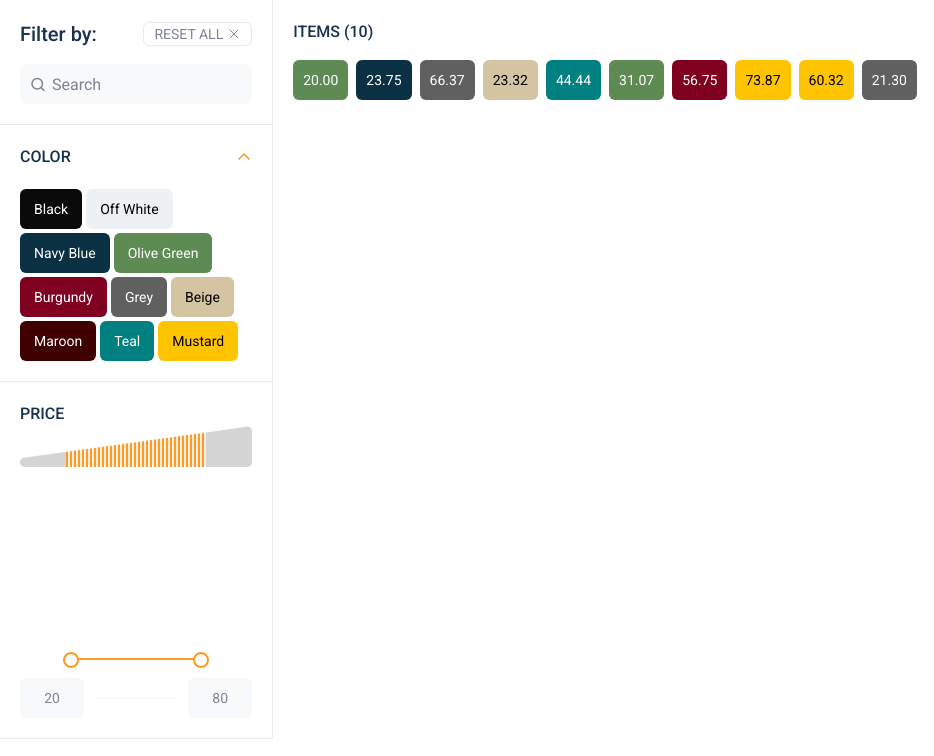
<FilterPage /> › Should filter items by search filter
The width and height of the screenshot is (934, 756).
Type "23" into the field with test id "search-input" at (136, 84), box [20, 64, 252, 104]
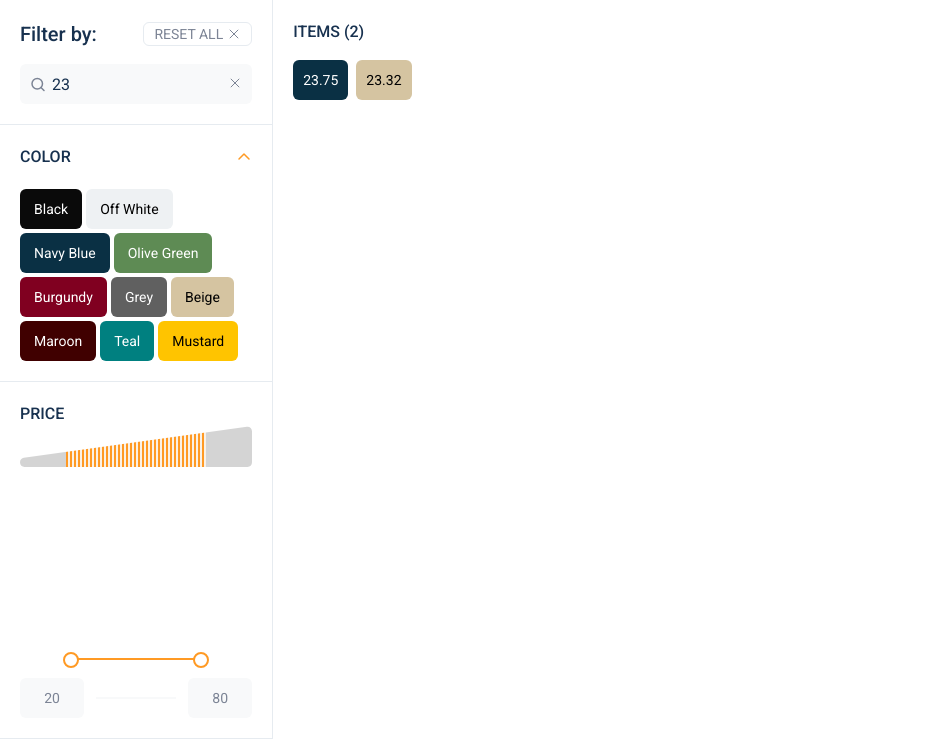
Check: the text "ITEMS (2)" is shown, box [293, 22, 364, 41]
